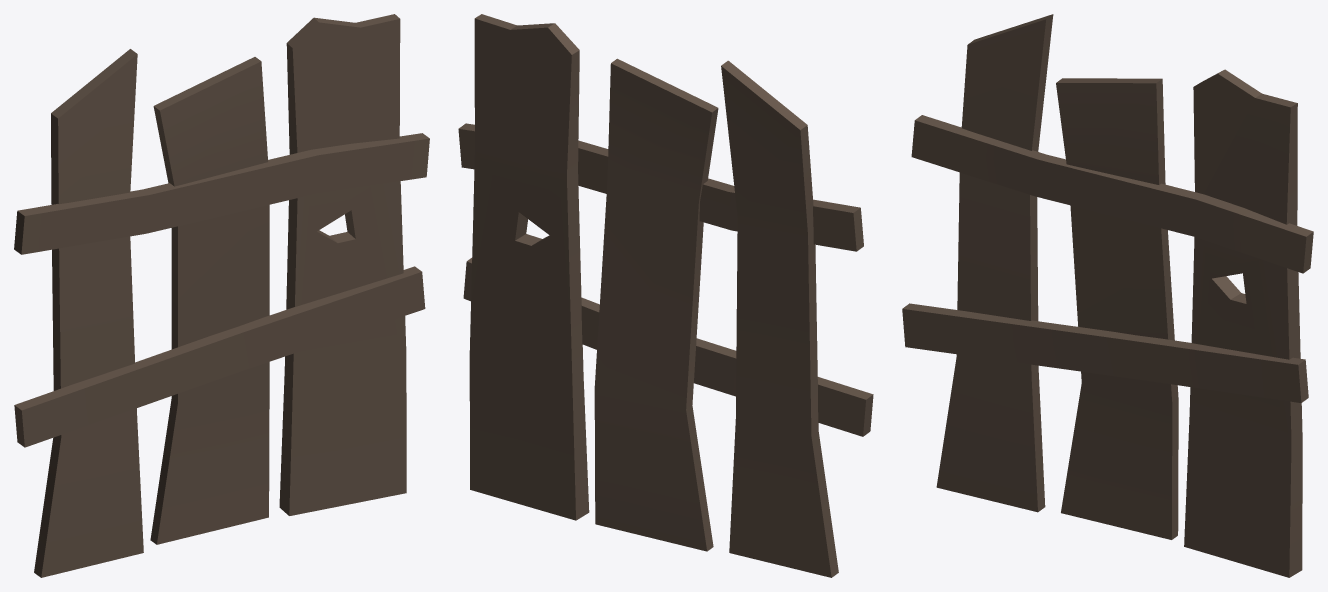
The model's file is Fence_V02.fbx.
3 renders of one model, left to right at view 1: azimuth 30°, elevation 25°; view 2: azimuth 150°, elevation 25°; view 3: azimuth 330°, elevation 25°, orthographic.
Visible parts, largest first — view 1: Fence_V02; view 2: Fence_V02; view 3: Fence_V02.
Boxes of the visible parts, x1,y1,x2,y2 form: Fence_V02: (14,14,429,577); Fence_V02: (458,14,873,577); Fence_V02: (902,14,1313,577).
Size of the model in its own units: 2.04 by 2.36 by 0.1915.
